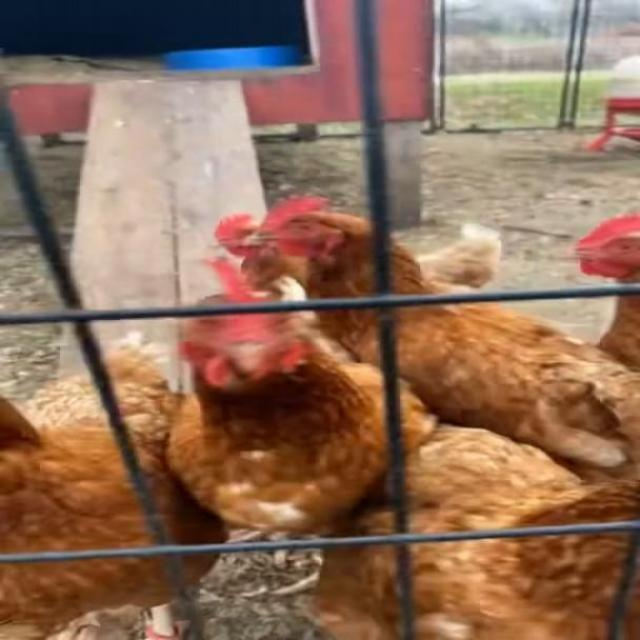Chicken: (226, 196, 640, 469), (160, 257, 436, 595), (297, 424, 640, 640), (0, 330, 231, 639), (206, 211, 506, 289), (546, 213, 640, 374)
